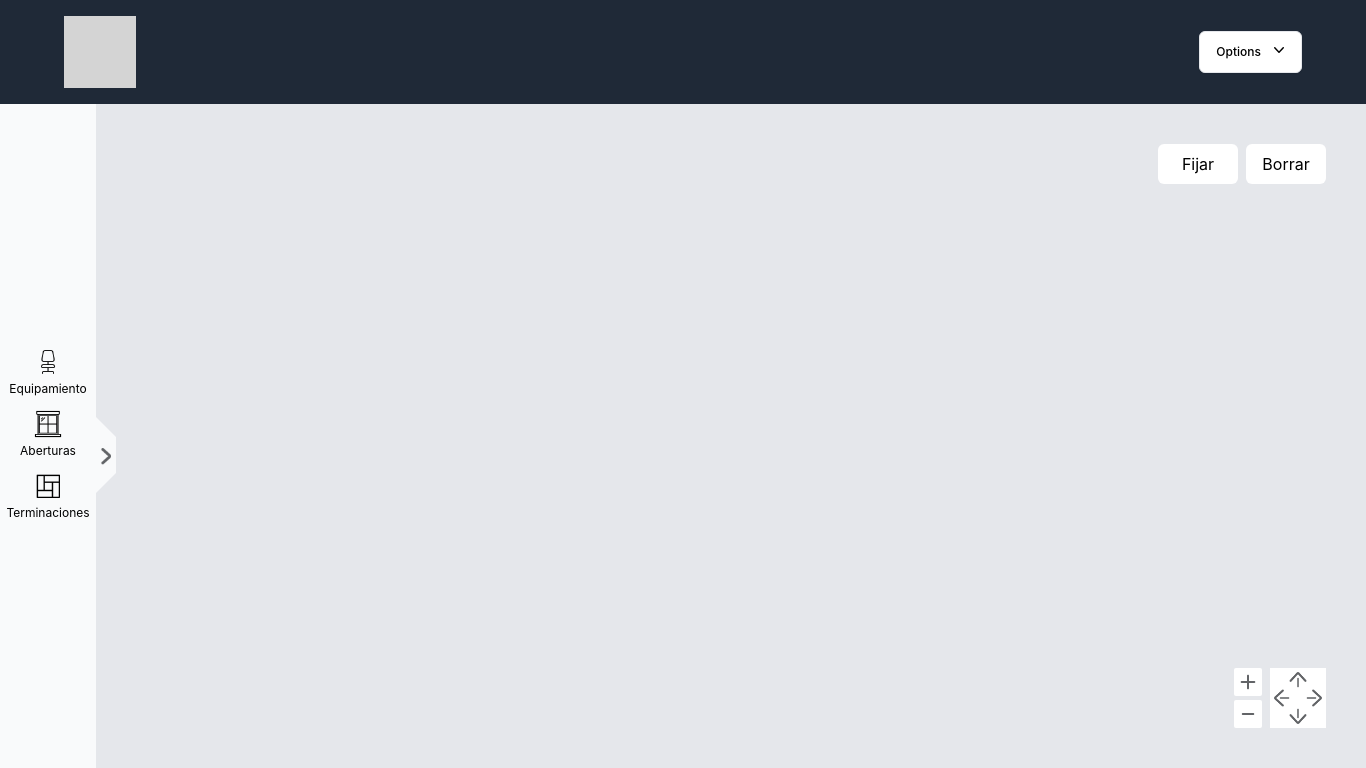
Test: Lightit Challenge › Should render dropdown options
Expected: the header with test id "app-header" is shown, [0,0,1365,104]
Click the button "Options": [1251, 52] box [1199,31,1302,73]
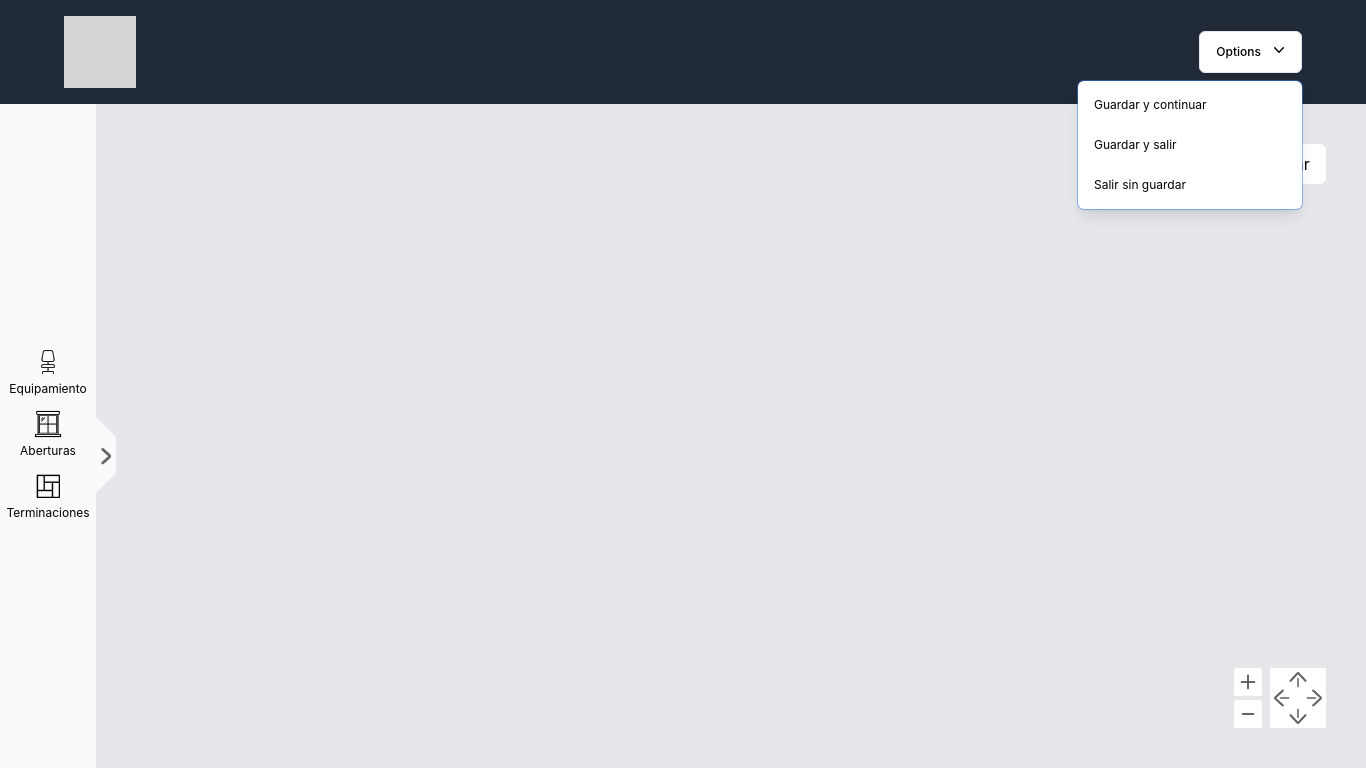
Now the menu item "Guardar y continuar" is shown, box [1094,97,1207,112]
Now the menu item "Guardar y salir" is shown, box [1094,137,1177,152]
Now the menu item "Salir sin guardar" is shown, box [1094,177,1186,192]
